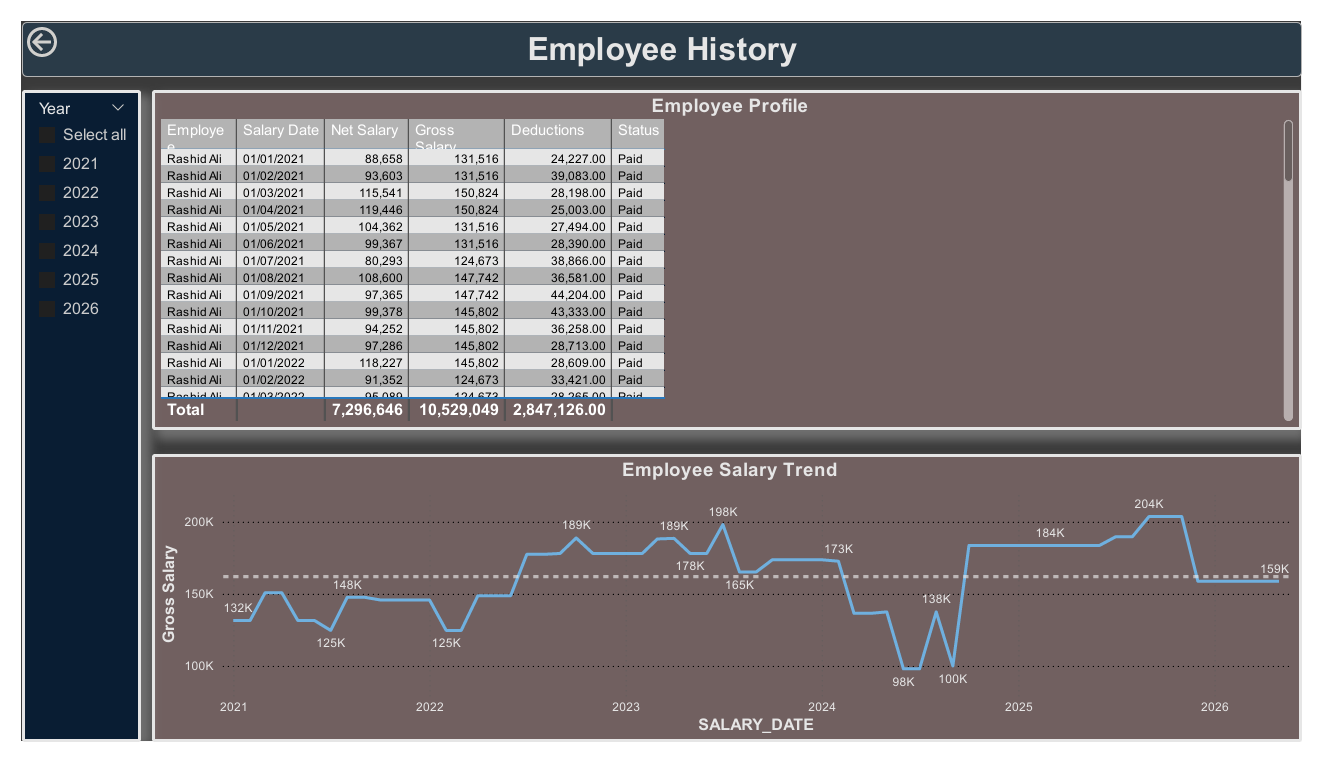

What the dashboard file says about the page in this screenshot:
{"tool":"powerbi","page":{"name":"Employee History","canvas":[1280,720],"ordinal":5},"visuals":[{"type":"tableEx","title":"Employee Profile","fields":{"Values":["AI_PAYROLL_DATA.EMPLOYEE_NAME","AI_PAYROLL_DATA.SALARY_DATE","Sum(AI_PAYROLL_DATA.NET_SALARY)","Sum(AI_PAYROLL_DATA.GROSS_SALARY)","Sum(AI_PAYROLL_DATA.DEDUCTIONS)","AI_PAYROLL_DATA.PAYMENT_STATUS"]},"box":[130.3,67.6,1149.7,340.2],"z":0},{"type":"textbox","box":[0,0,1280,55.5],"z":1000},{"type":"actionButton","box":[0,0,100,40],"z":2000},{"type":"lineChart","title":"Employee Salary Trend","fields":{"Category":["AI_PAYROLL_DATA.SALARY_DATE"],"Y":["Sum(AI_PAYROLL_DATA.GROSS_SALARY)"]},"box":[130.3,431.9,1149.7,288.3],"z":3000},{"type":"slicer","fields":{"Values":["DateTable.Year"]},"box":[0,67.6,119.4,652.7],"z":4000}]}

Visuals, with their boxes in screenshot pixels (x1, y1, x2, y2), scaled from the page's 1280x720 canvas onto the 1322x763 screenshot:
"Employee Profile" tableEx: {"left": 135, "top": 72, "right": 1321, "bottom": 432}
textbox: {"left": 0, "top": 0, "right": 1321, "bottom": 59}
actionButton: {"left": 0, "top": 0, "right": 103, "bottom": 42}
"Employee Salary Trend" lineChart: {"left": 135, "top": 458, "right": 1321, "bottom": 762}
slicer - DateTable.Year: {"left": 0, "top": 72, "right": 123, "bottom": 762}
